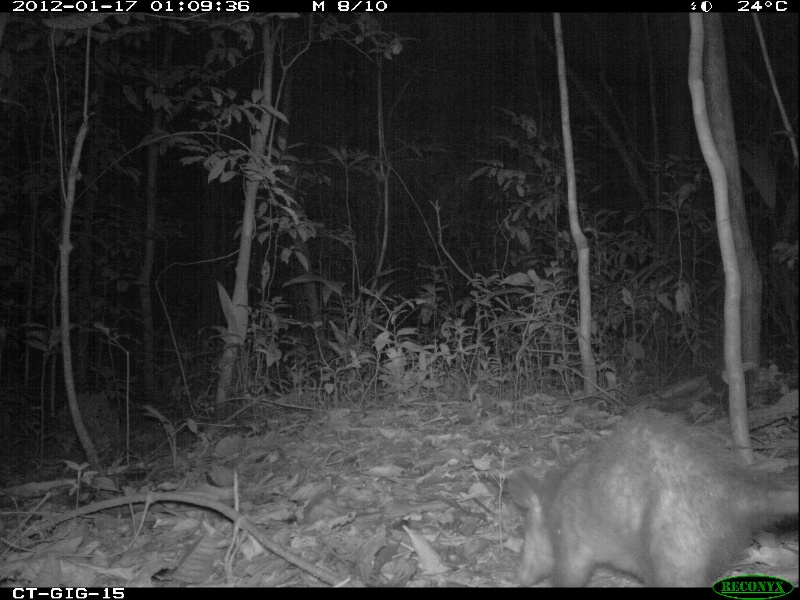opossum: (511, 401, 797, 585)
